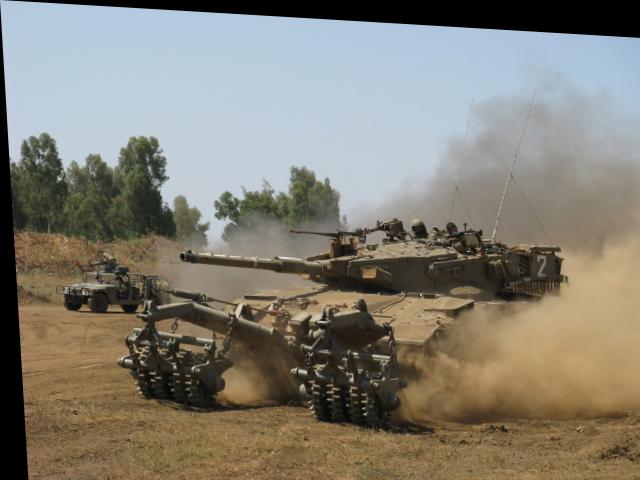tank: (132, 194, 574, 429), (58, 243, 170, 318)
